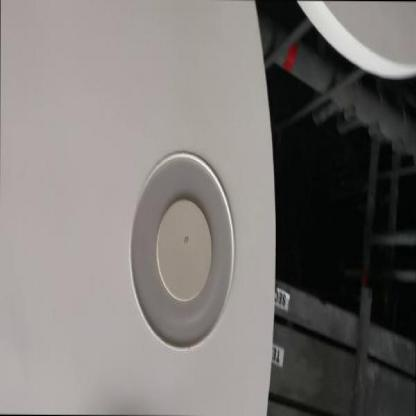light_off: (118, 113, 244, 371)
